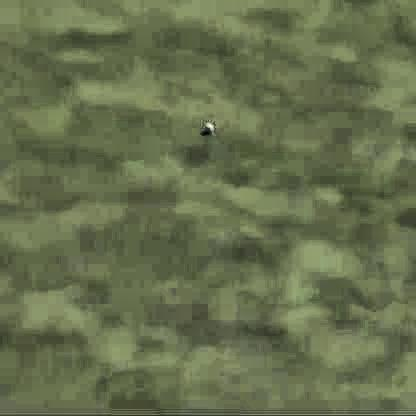golfball: (200, 118, 213, 131)
